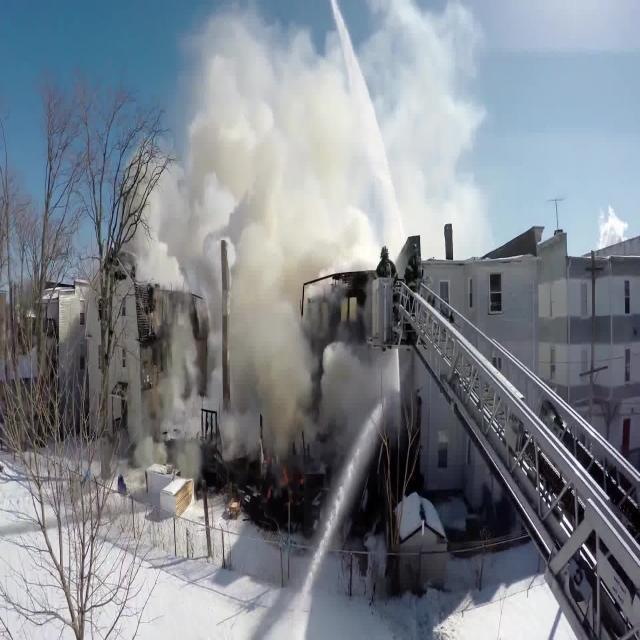Smoke: (115, 16, 494, 472)
